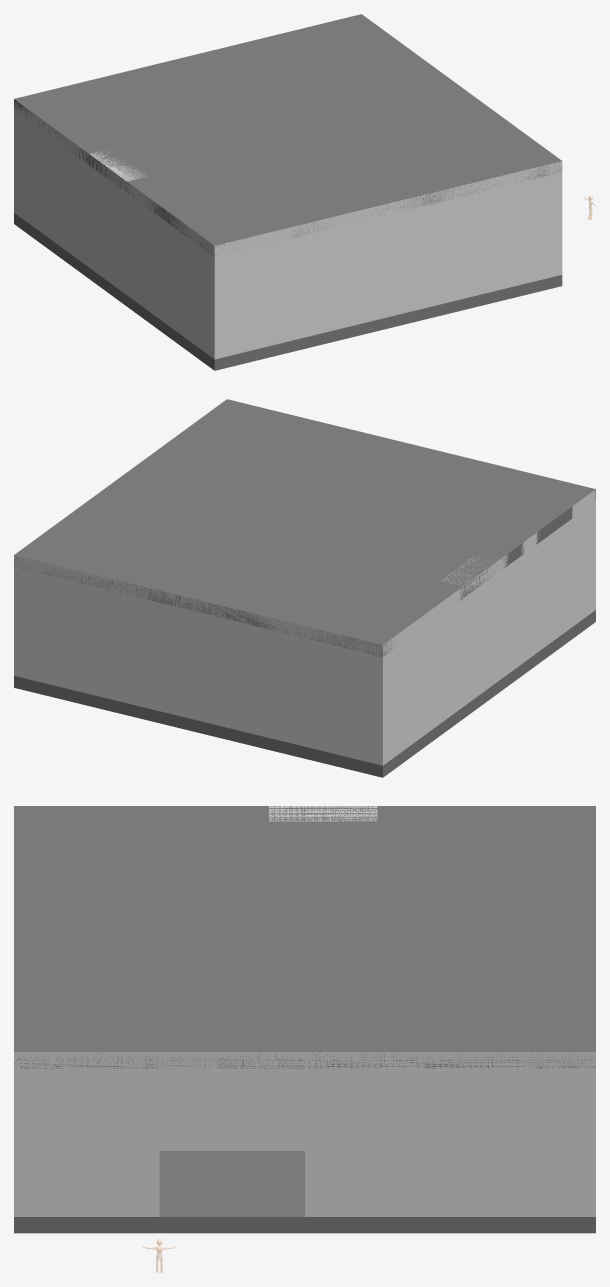
Rendered from OLobby.glb.
3 views of the same model, one above another, from view 1: azimuth 30°, elevation 25°; view 2: azimuth 150°, elevation 25°; view 3: azimuth 270°, elevation 25° (orthographic). The views are drawn at different scales.
Parts seen in each view (by area): view 1: Ceiling-Lobby, Wall-Lobby, Floor-Lobby; view 2: Ceiling-Lobby, Wall-Lobby, Floor-Lobby; view 3: Ceiling-Lobby, Wall-Lobby, Floor-Lobby.
Boxes of the visible parts, x1=… form: Ceiling-Lobby: x1=14, y1=14, x2=561, y2=256; Wall-Lobby: x1=14, y1=101, x2=562, y2=359; Floor-Lobby: x1=14, y1=213, x2=562, y2=370; Ceiling-Lobby: x1=14, y1=399, x2=595, y2=656; Wall-Lobby: x1=14, y1=489, x2=595, y2=765; Floor-Lobby: x1=14, y1=610, x2=595, y2=777; Ceiling-Lobby: x1=14, y1=806, x2=595, y2=1068; Wall-Lobby: x1=14, y1=806, x2=595, y2=1216; Floor-Lobby: x1=14, y1=1151, x2=595, y2=1233.
Size of the model in its own units: 19.7 by 5.5 by 16.
Materials: 4 (2 with a texture image).
